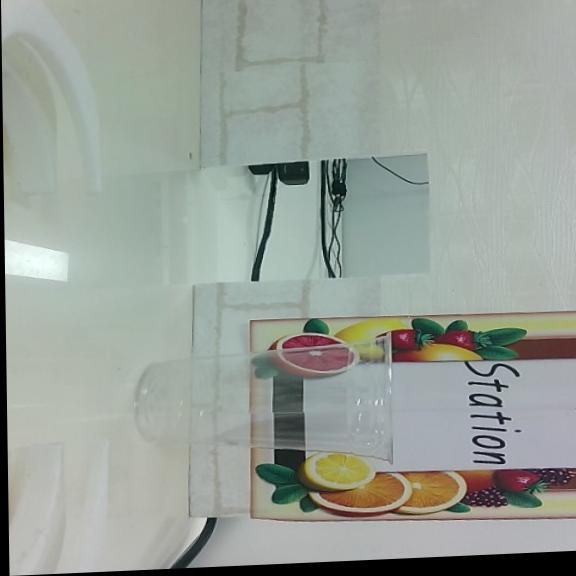Plastik: (132, 337, 391, 461)
